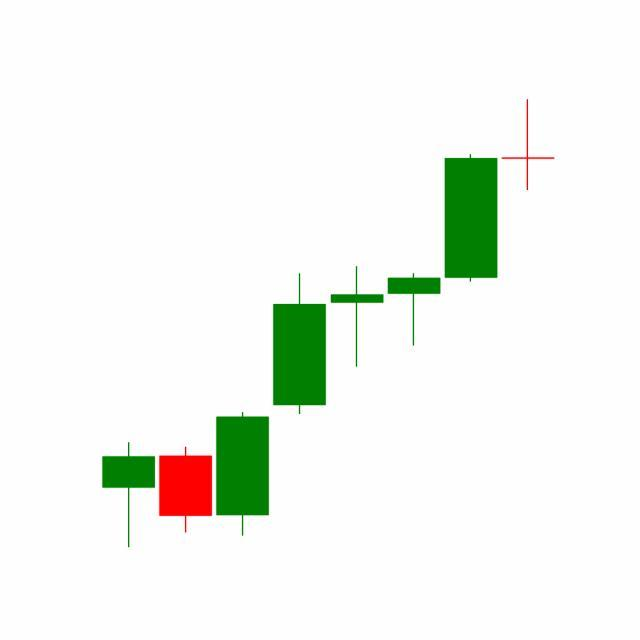Hikkake Pattern: (214, 151, 501, 541)
